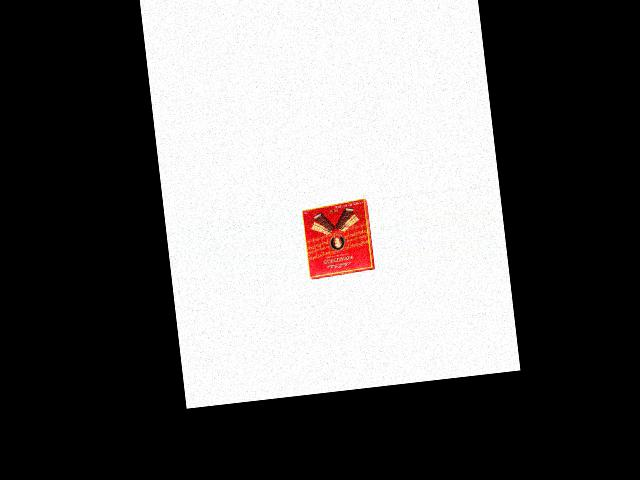chocolate: (299, 196, 375, 278)
